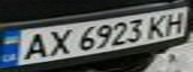2: (109, 19, 133, 47)
3: (127, 16, 151, 43)
6: (75, 24, 100, 52)
9: (93, 21, 115, 50)
A: (15, 29, 54, 62)
H: (160, 9, 190, 35)
K: (142, 11, 175, 38)
X: (39, 26, 75, 57)
